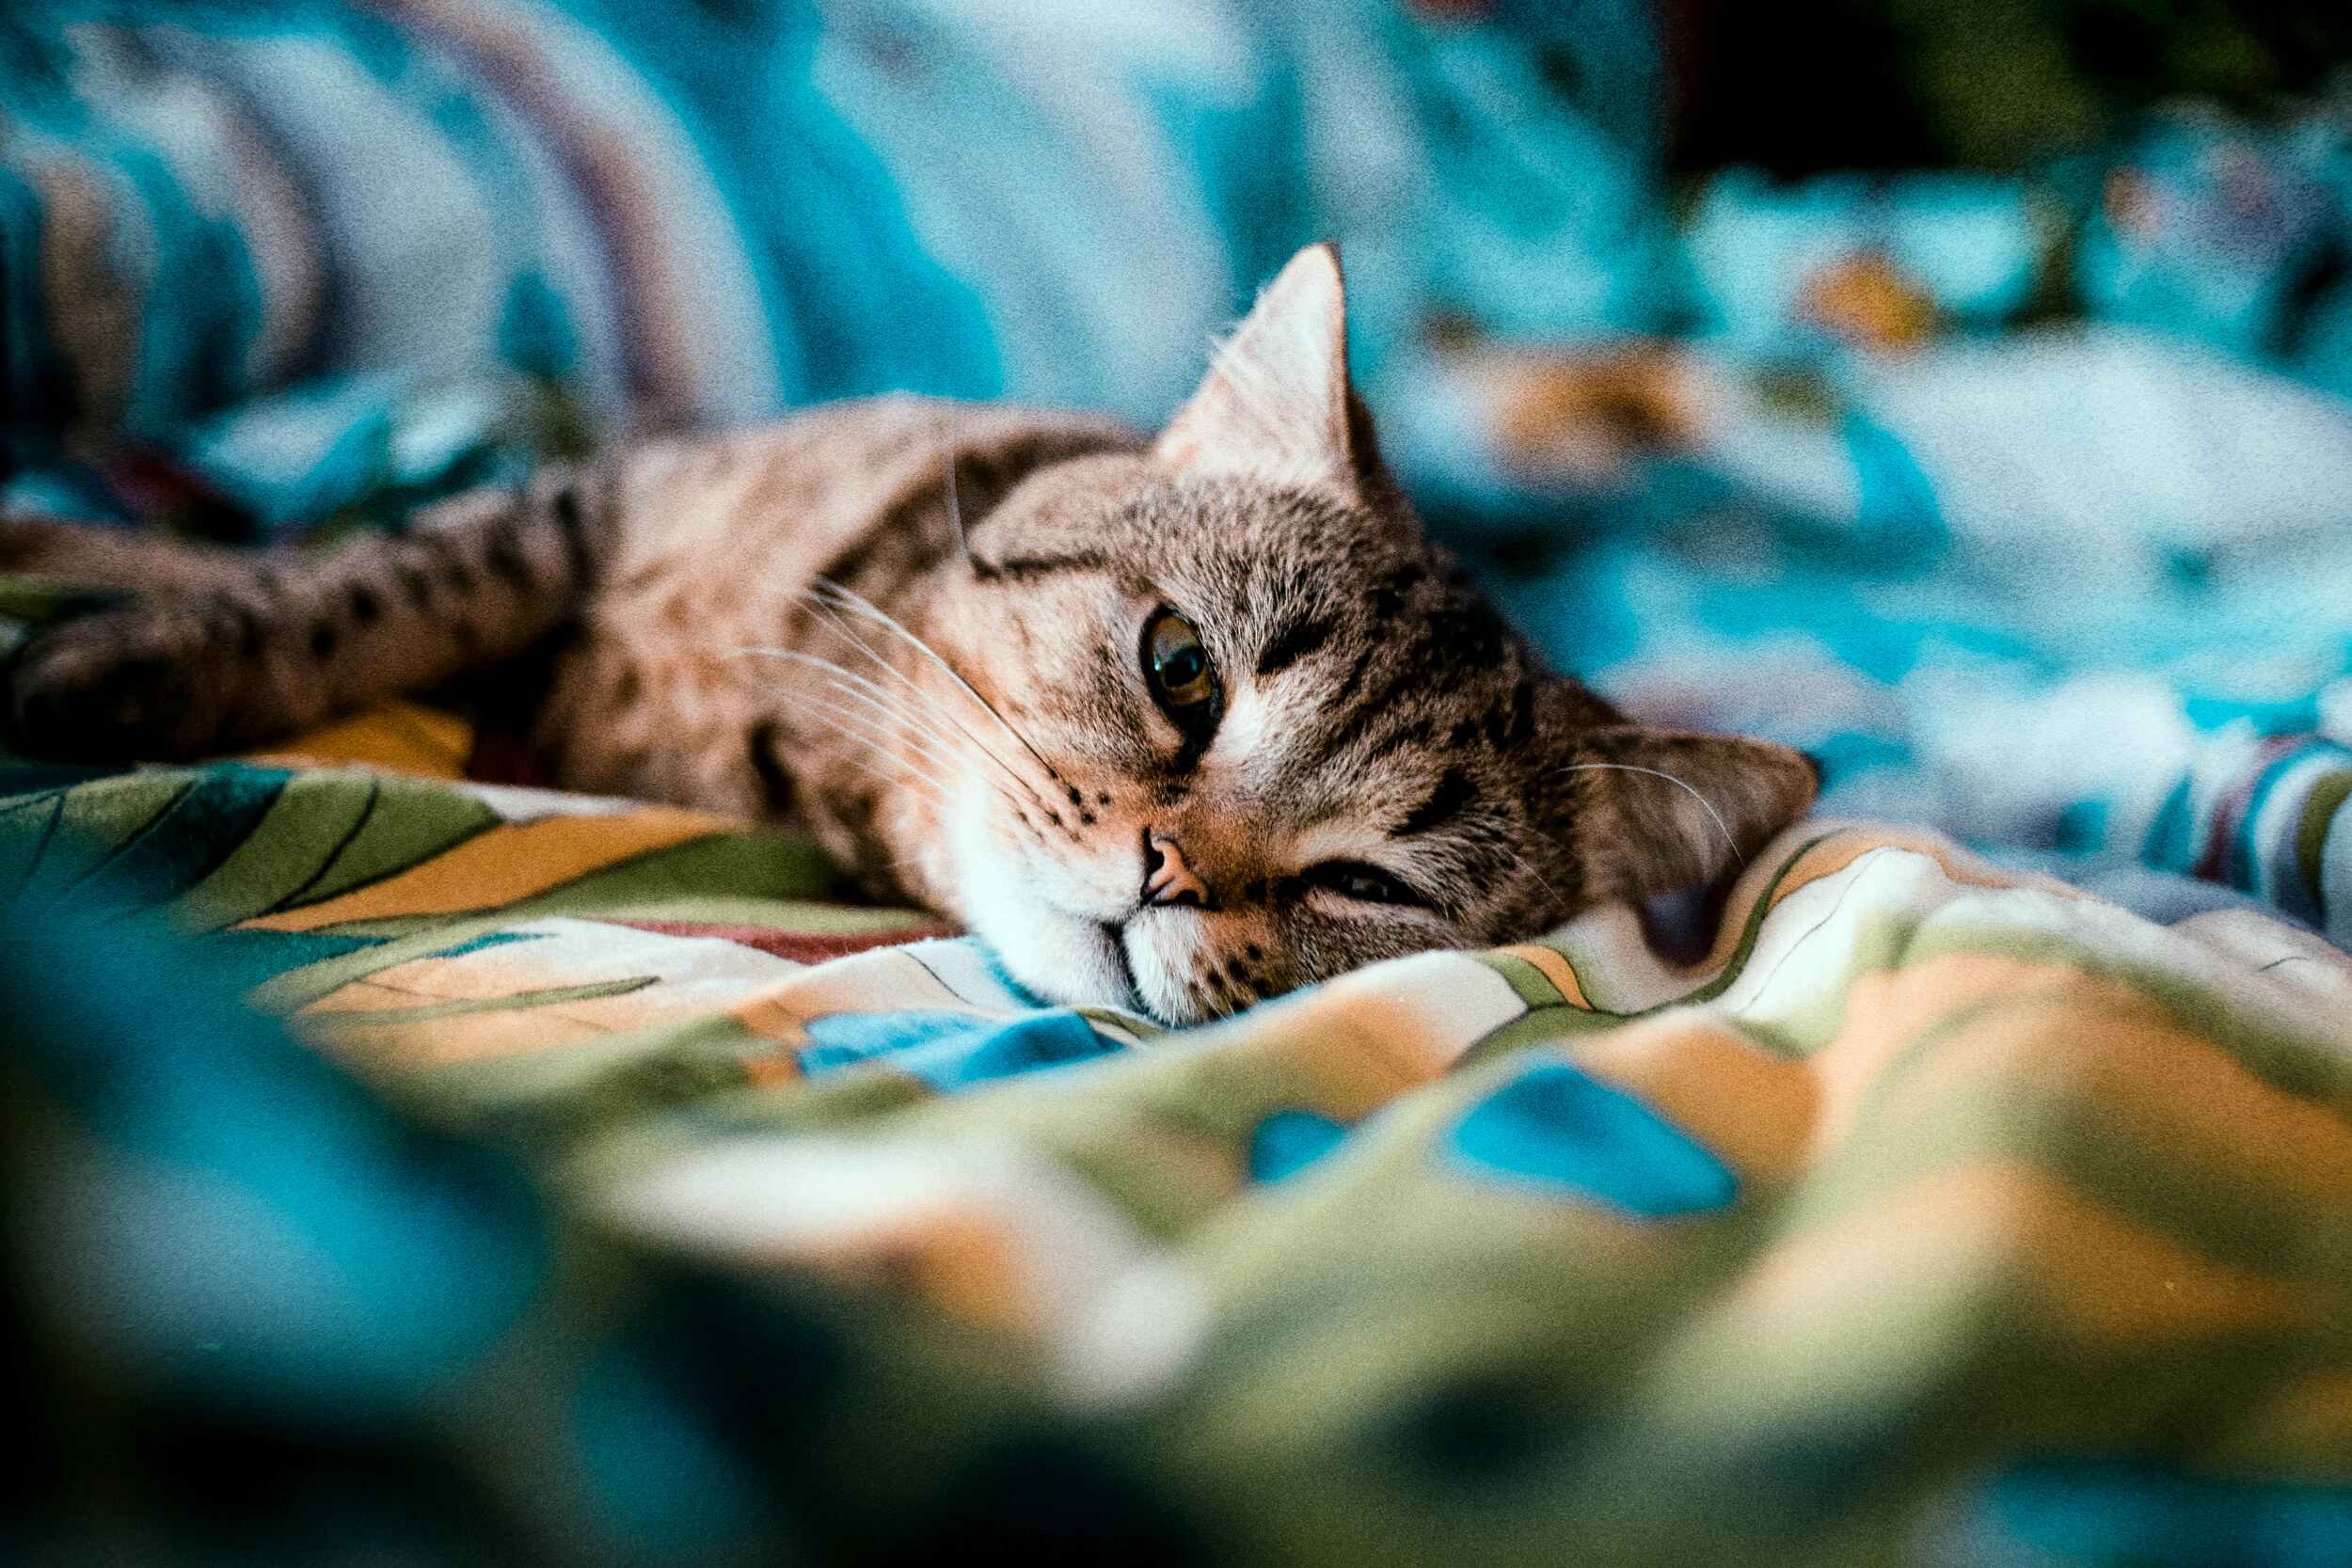cat: (815, 184, 2009, 1158)
